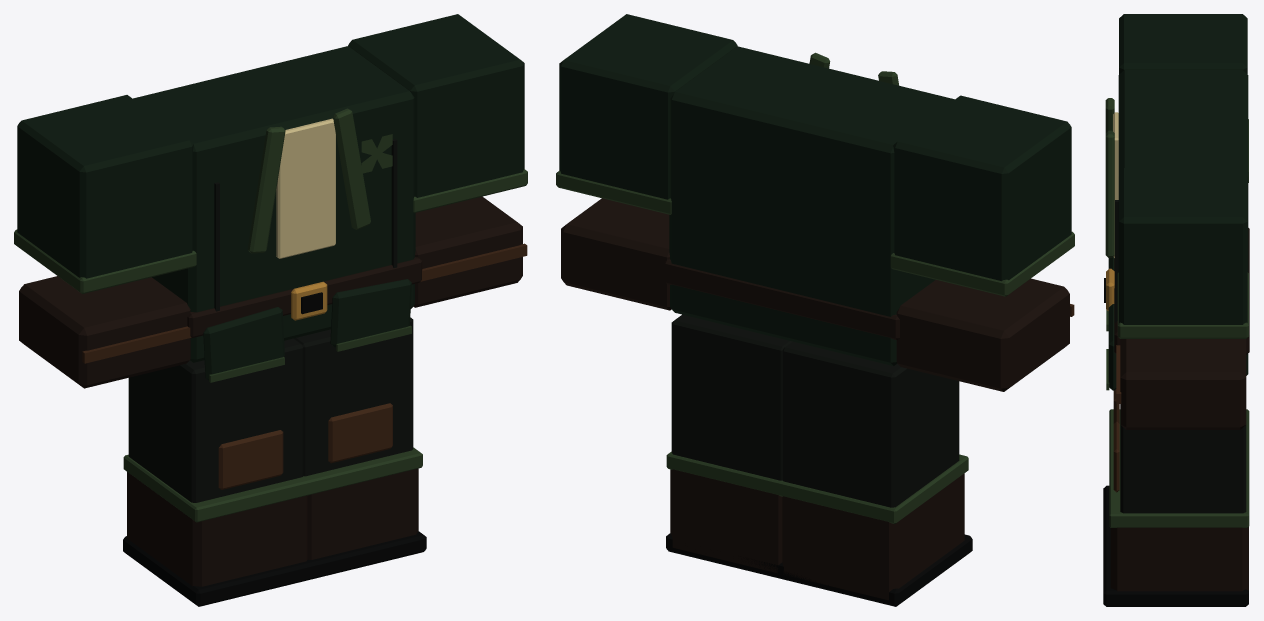
The model's file is outfit-forest-initiate-v1.gltf.
The picture shows the model from 3 angles, left to right: view 1: azimuth 30°, elevation 25°; view 2: azimuth 150°, elevation 25°; view 3: azimuth 270°, elevation 25°; orthographic projection. The views are drawn at different scales.
Visible parts, largest first — view 1: Torso.001, Left Arm.001, Left Leg.001, Right Arm.001, Right Leg.001; view 2: Torso.001, Left Arm.001, Left Leg.001, Right Arm.001, Right Leg.001; view 3: Right Arm.001, Right Leg.001, Torso.001, Left Arm.001, Left Leg.001.
Part boxes in pixels (x1=…): Torso.001: x1=133, y1=46, x2=422, y2=382; Left Arm.001: x1=14, y1=95, x2=196, y2=388; Left Leg.001: x1=123, y1=338, x2=315, y2=606; Right Arm.001: x1=348, y1=14, x2=527, y2=307; Right Leg.001: x1=293, y1=317, x2=426, y2=579; Torso.001: x1=664, y1=46, x2=954, y2=365; Left Arm.001: x1=890, y1=95, x2=1074, y2=391; Left Leg.001: x1=777, y1=341, x2=972, y2=606; Right Arm.001: x1=556, y1=14, x2=737, y2=310; Right Leg.001: x1=666, y1=314, x2=792, y2=579; Right Arm.001: x1=1116, y1=168, x2=1248, y2=429; Right Leg.001: x1=1103, y1=421, x2=1249, y2=606; Torso.001: x1=1104, y1=70, x2=1249, y2=390; Left Arm.001: x1=1119, y1=14, x2=1248, y2=182; Left Leg.001: x1=1103, y1=389, x2=1249, y2=538.
Size of the model in its own units: 4.09 by 4.01 by 1.21.
Materials: 1 (1 with a texture image).
